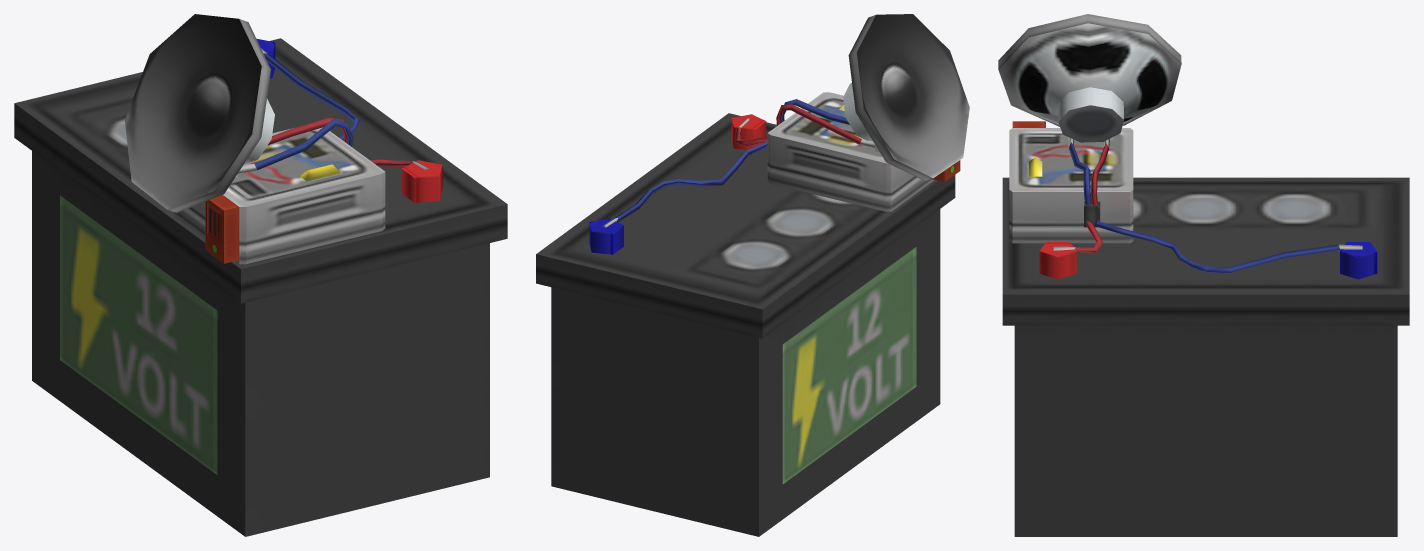
File: BigNoiseTrap_Mesh.fbx
3 renders of one model, left to right at view 1: azimuth 30°, elevation 25°; view 2: azimuth 150°, elevation 25°; view 3: azimuth 270°, elevation 25°, orthographic. The views are drawn at different scales.
Parts seen in each view (by area): view 1: BigNoiseTrap; view 2: BigNoiseTrap; view 3: BigNoiseTrap.
Boxes of the visible parts, x1=… form: BigNoiseTrap: x1=14, y1=14, x2=507, y2=536; BigNoiseTrap: x1=536, y1=14, x2=969, y2=536; BigNoiseTrap: x1=998, y1=14, x2=1409, y2=536.
Bounding box in the file's own units: 37.56 × 55.88 × 48.36.
